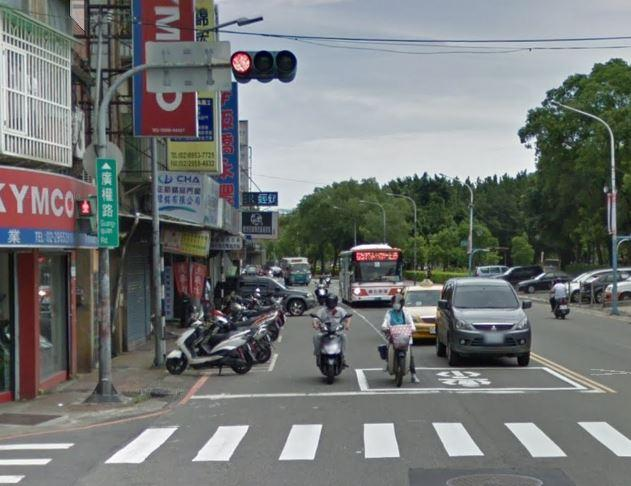red_traffic_light: (228, 47, 297, 77)
